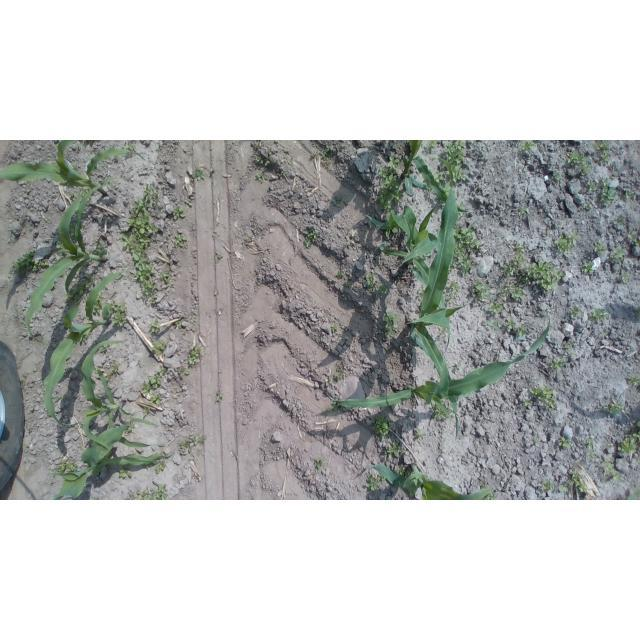Maize: (326, 318, 550, 418), (24, 178, 117, 345), (44, 270, 129, 427), (362, 204, 451, 352), (412, 166, 460, 438), (52, 418, 173, 500), (82, 340, 164, 453), (0, 139, 144, 196), (401, 140, 470, 214), (364, 465, 492, 500)
Weeds: (120, 187, 160, 305), (503, 256, 565, 293), (452, 224, 483, 276), (374, 156, 402, 213), (444, 141, 469, 184), (64, 275, 96, 306), (546, 230, 580, 253), (528, 384, 556, 409), (143, 366, 165, 397), (566, 152, 592, 177), (128, 484, 168, 500), (10, 251, 35, 273), (372, 415, 393, 441), (618, 432, 640, 455), (382, 312, 400, 340), (600, 178, 617, 207), (594, 140, 614, 164), (499, 283, 524, 301), (471, 279, 490, 301), (179, 436, 203, 453), (603, 461, 622, 482), (365, 473, 386, 491), (431, 403, 454, 419), (172, 202, 192, 220), (113, 303, 128, 327), (571, 472, 588, 492), (602, 403, 624, 418), (57, 459, 78, 474), (385, 442, 403, 459), (304, 231, 319, 250), (150, 340, 166, 356), (591, 309, 610, 322), (584, 439, 597, 458), (175, 232, 190, 248), (188, 346, 200, 365), (610, 249, 626, 263), (91, 293, 101, 314), (161, 269, 172, 288), (541, 478, 555, 492), (366, 273, 379, 288), (594, 241, 607, 256), (119, 464, 133, 477), (489, 300, 503, 313), (395, 466, 409, 479), (520, 141, 536, 152), (150, 393, 163, 406), (627, 487, 640, 500), (627, 374, 640, 386), (191, 167, 204, 179), (549, 358, 563, 369), (34, 260, 48, 271), (125, 140, 136, 154), (323, 148, 332, 165), (150, 318, 160, 333), (559, 436, 571, 448), (516, 325, 527, 338), (378, 284, 389, 297), (155, 462, 166, 474), (583, 262, 594, 274), (487, 321, 499, 332), (414, 428, 426, 439), (520, 399, 533, 409), (386, 227, 399, 237), (328, 373, 344, 381), (426, 140, 440, 149), (456, 203, 465, 217), (434, 172, 445, 183), (512, 244, 524, 254), (451, 280, 461, 292), (569, 307, 581, 317), (587, 179, 597, 191), (620, 271, 630, 283), (448, 261, 456, 275), (125, 422, 136, 432), (505, 319, 516, 329), (442, 183, 450, 196), (316, 459, 325, 469), (256, 172, 265, 182), (518, 207, 528, 216), (421, 252, 431, 261), (616, 216, 625, 226), (448, 293, 456, 304), (485, 492, 496, 500), (419, 286, 426, 298), (216, 252, 223, 264), (56, 240, 65, 249), (559, 485, 569, 493), (264, 156, 272, 166), (625, 188, 633, 198), (111, 363, 119, 373), (627, 231, 637, 239), (344, 280, 353, 288), (379, 242, 387, 251), (100, 343, 109, 351), (81, 188, 90, 196), (216, 393, 222, 404), (331, 324, 339, 332), (256, 156, 264, 164), (564, 344, 573, 351), (336, 271, 345, 278), (335, 196, 342, 205), (553, 172, 560, 181), (180, 371, 190, 377), (69, 227, 75, 237), (635, 236, 640, 248), (144, 407, 151, 415), (532, 437, 540, 444), (69, 191, 78, 197), (481, 481, 488, 488), (43, 340, 50, 347), (455, 365, 462, 372), (97, 244, 104, 251), (311, 150, 319, 156), (584, 204, 592, 210), (28, 332, 37, 337), (108, 304, 113, 313), (570, 353, 576, 360), (175, 321, 181, 328), (439, 333, 446, 339), (71, 164, 77, 171), (145, 464, 152, 469), (76, 144, 81, 151), (442, 288, 446, 296), (191, 315, 195, 323), (152, 460, 158, 465), (601, 331, 607, 336), (245, 236, 251, 241), (636, 421, 640, 428), (82, 336, 87, 341), (58, 396, 64, 400), (280, 171, 286, 175), (176, 386, 180, 392), (440, 200, 444, 204), (105, 376, 109, 380), (80, 197, 83, 201), (82, 140, 86, 142)
